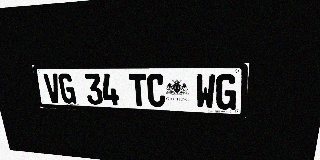3: (84, 74, 103, 105)
4: (100, 74, 119, 105)
C: (146, 74, 165, 107)
G: (215, 74, 237, 110), (58, 73, 77, 104)
T: (129, 74, 148, 107)
V: (43, 73, 62, 103)
W: (195, 74, 216, 109)
